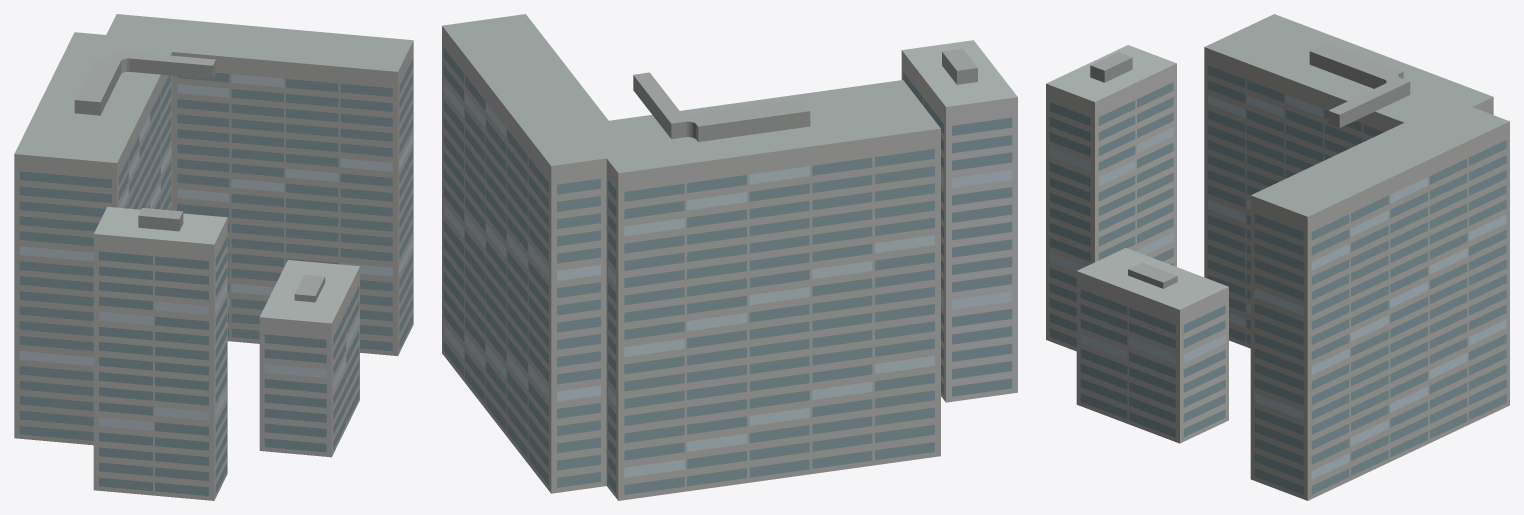
The model's file is apt-a13813002.glb.
3 views of the same model, side by side, from view 1: azimuth 30°, elevation 25°; view 2: azimuth 150°, elevation 25°; view 3: azimuth 270°, elevation 25° (orthographic). The views are drawn at different scales.
Parts seen in each view (by area): view 1: apt-a13813002; view 2: apt-a13813002; view 3: apt-a13813002.
Boxes of the visible parts, x1=… form: apt-a13813002: x1=14, y1=14, x2=413, y2=500; apt-a13813002: x1=442, y1=14, x2=1017, y2=500; apt-a13813002: x1=1046, y1=14, x2=1509, y2=500.
Size of the model in its own units: 74.6 by 51 by 72.09.
